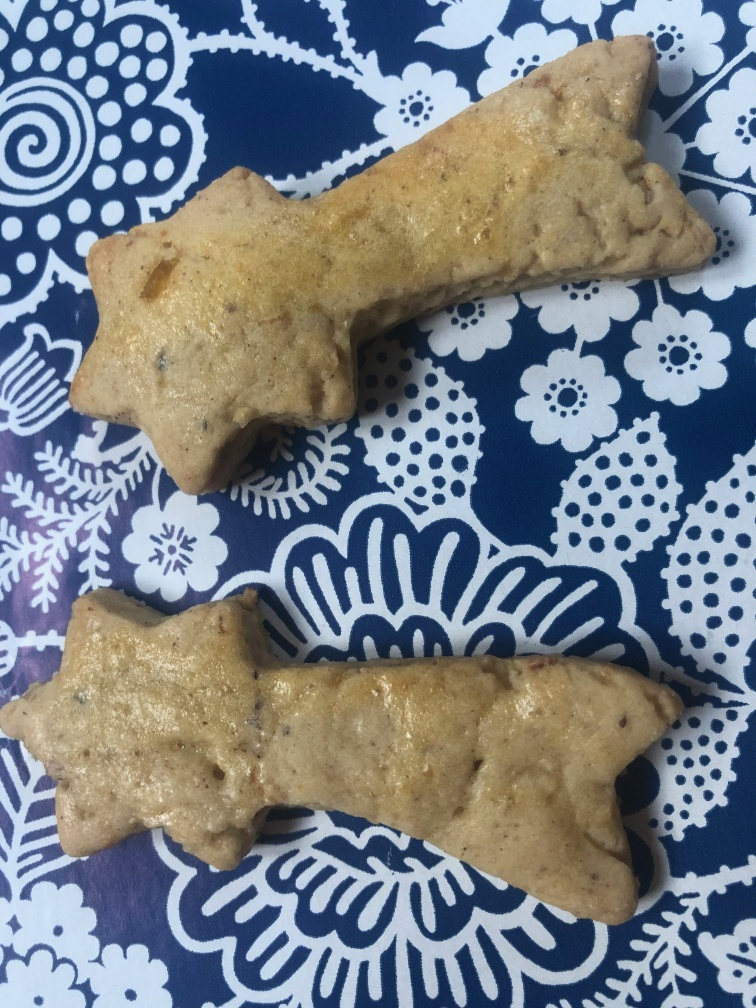shooting star: (64, 32, 736, 495), (2, 577, 684, 943)
